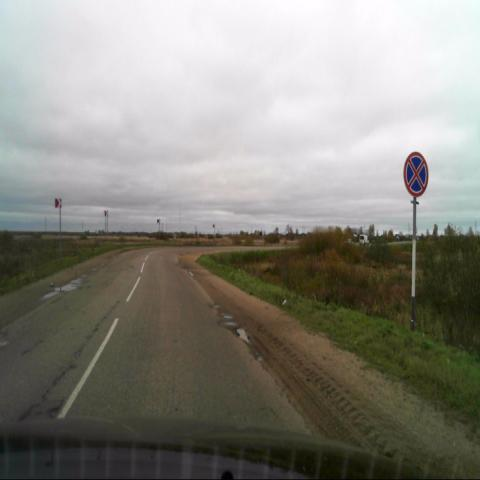3_27: (404, 151, 428, 196)
